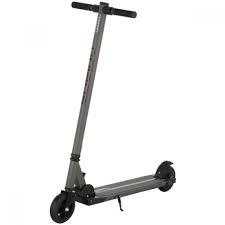scooter: (48, 1, 178, 225)
